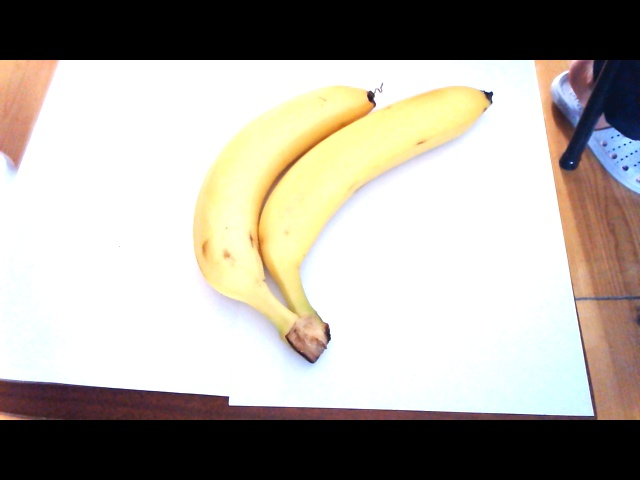banana: (193, 79, 481, 354)
